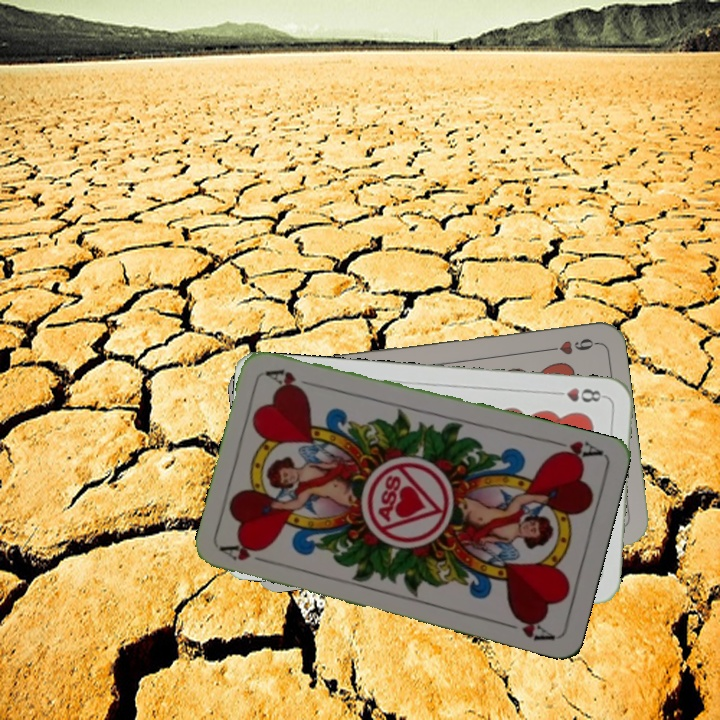H8: (549, 384, 608, 405)
H9: (540, 334, 599, 358)
HA: (546, 435, 605, 464), (218, 538, 277, 567)
